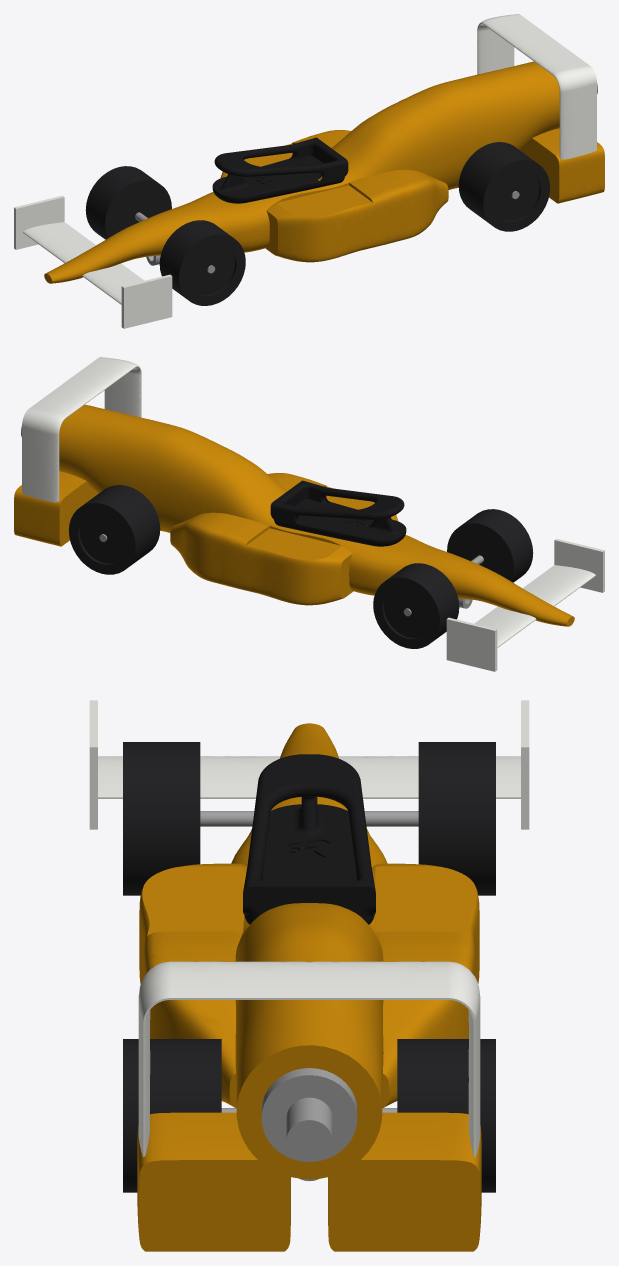
Rendered from concept-v4.glb.
3 renders of one model, top to bottom at view 1: azimuth 30°, elevation 25°; view 2: azimuth 150°, elevation 25°; view 3: azimuth 270°, elevation 25°, orthographic. The views are drawn at different scales.
Visible parts, largest first — view 1: Concept V4 Apex; view 2: Concept V4 Apex; view 3: Concept V4 Apex.
Part boxes in pixels (bbox=[...]): Concept V4 Apex: bbox=[14, 14, 604, 328]; Concept V4 Apex: bbox=[14, 357, 604, 671]; Concept V4 Apex: bbox=[89, 700, 529, 1251].
Bounding box in the file's own units: 0.236 × 0.0571 × 0.0826.
